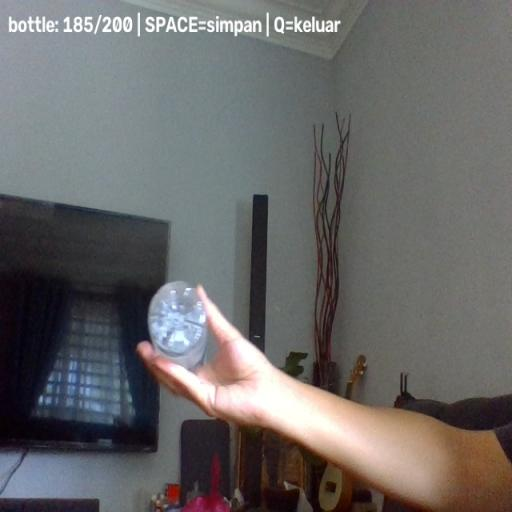Bottle: (147, 280, 209, 371)
